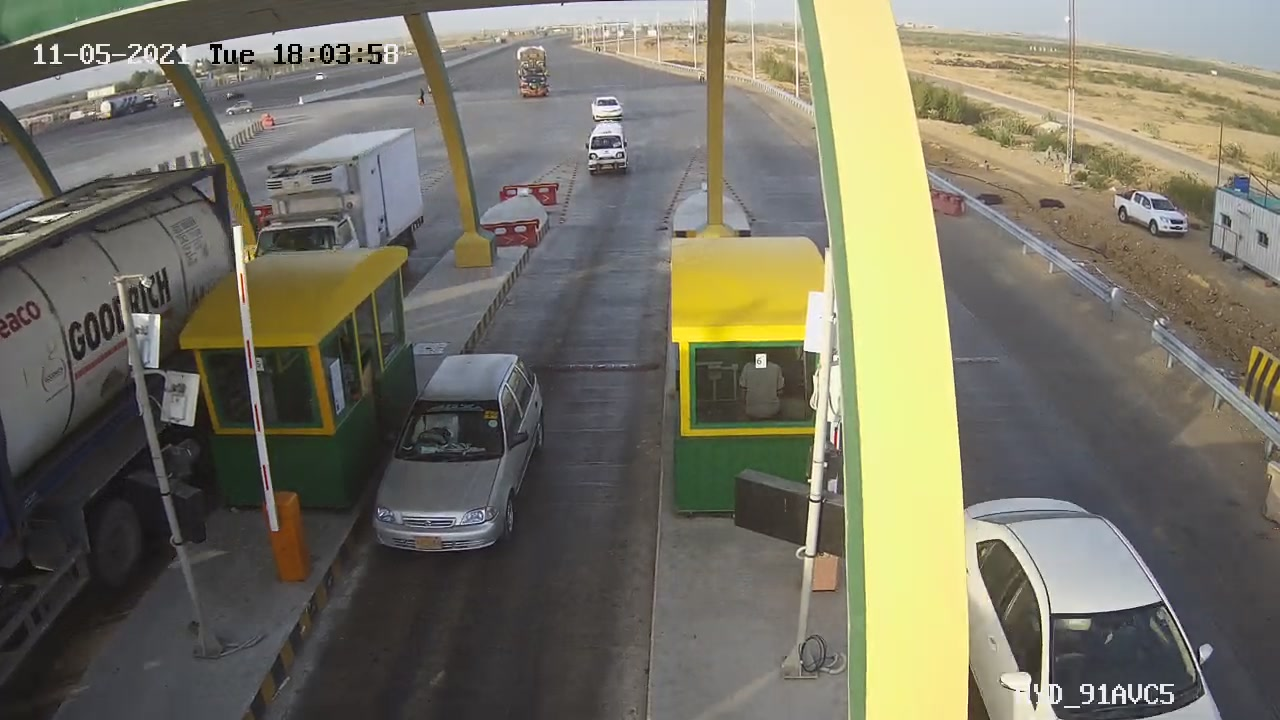F1: (353, 328, 561, 573)
